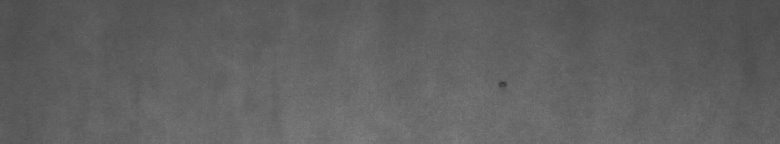fi: (496, 76, 507, 88)
